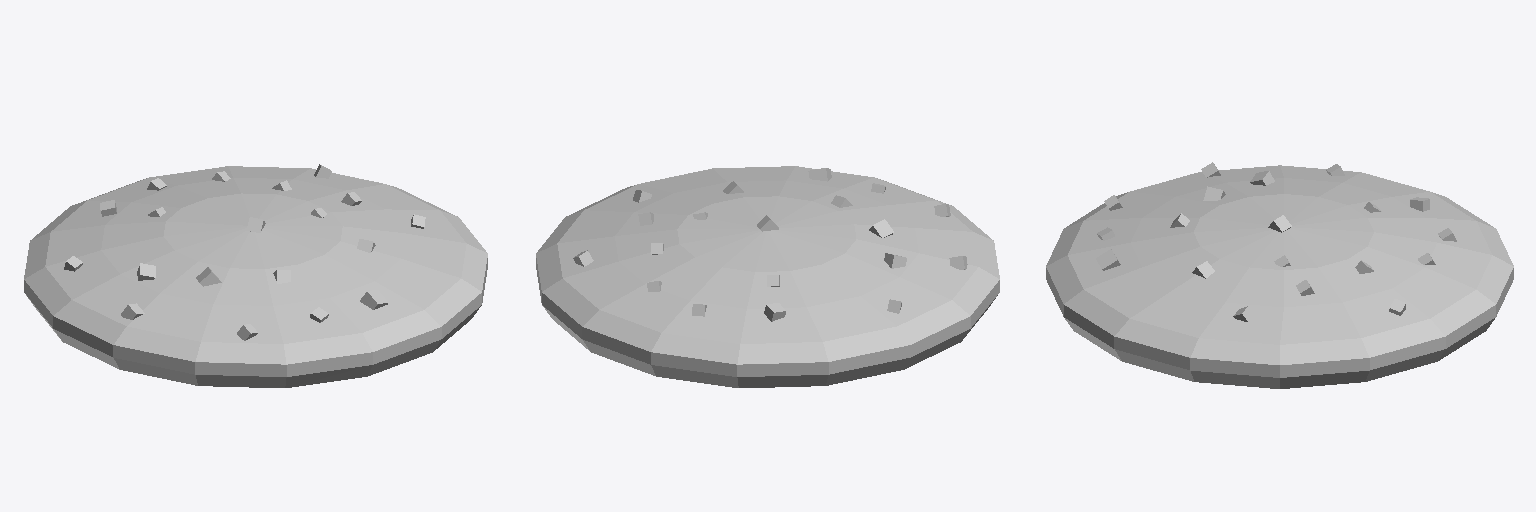
Rendered from biscuit.obj.
The picture shows the model from 3 angles: view 1: azimuth 30°, elevation 25°; view 2: azimuth 150°, elevation 25°; view 3: azimuth 270°, elevation 25°; orthographic projection.
Visible parts, largest first — view 1: Circle; view 2: Circle; view 3: Circle.
Part boxes in pixels (x1,y1,x2,y2): Circle: (24,164,487,387); Circle: (536,166,999,387); Circle: (1046,162,1513,388).
Size of the model in its own units: 2 by 0.3672 by 2.